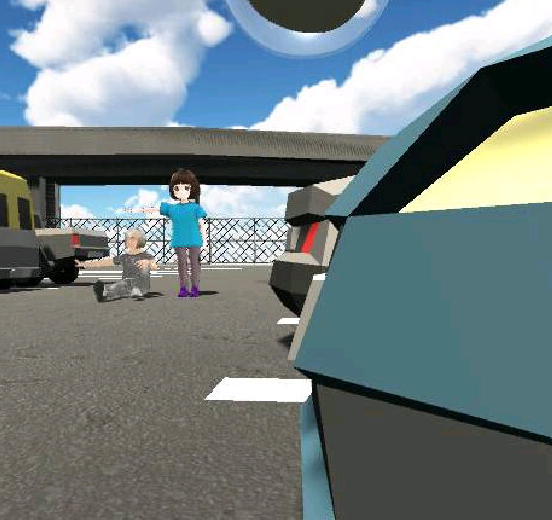doubleP_left: (70, 168, 211, 303)
